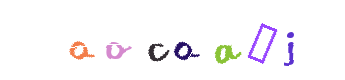2: (223, 0, 303, 80)
A: (185, 0, 265, 80)
C: (131, 0, 211, 80)
J: (224, 0, 304, 80)
O: (40, 0, 120, 80), (95, 0, 175, 80), (131, 0, 211, 80)
